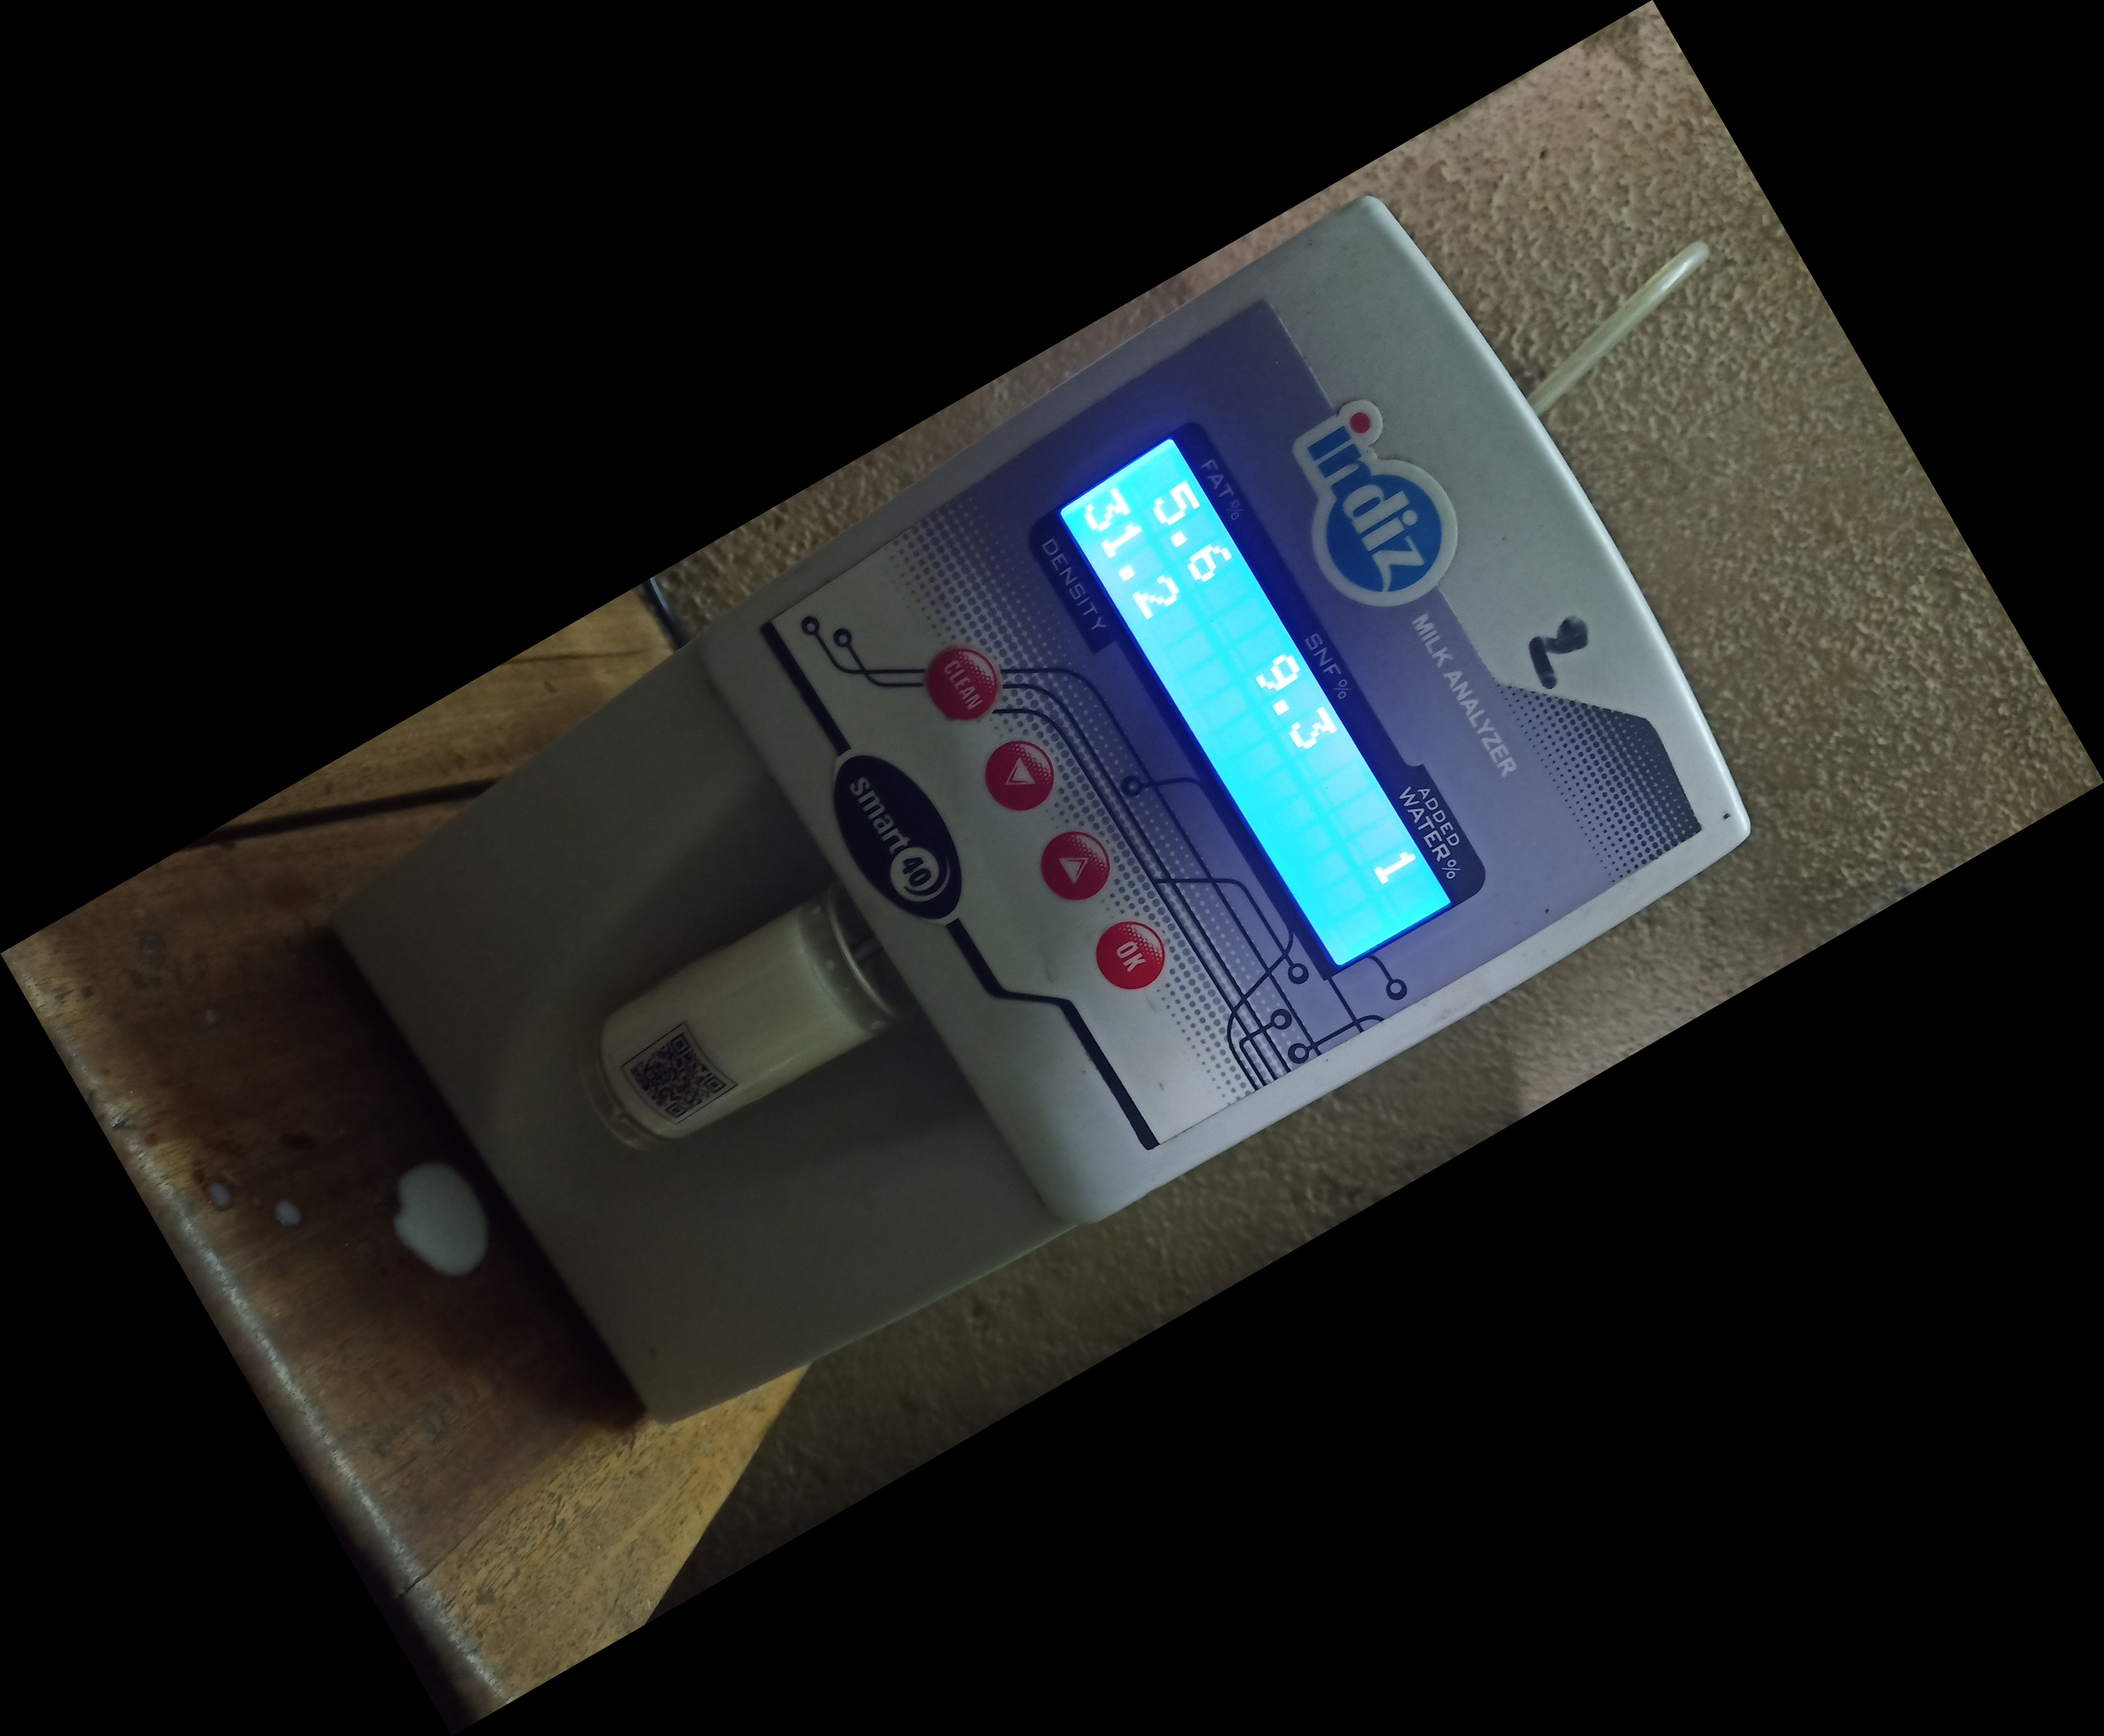lcd: (1036, 391, 1491, 985)
qr: (606, 1013, 743, 1144)
